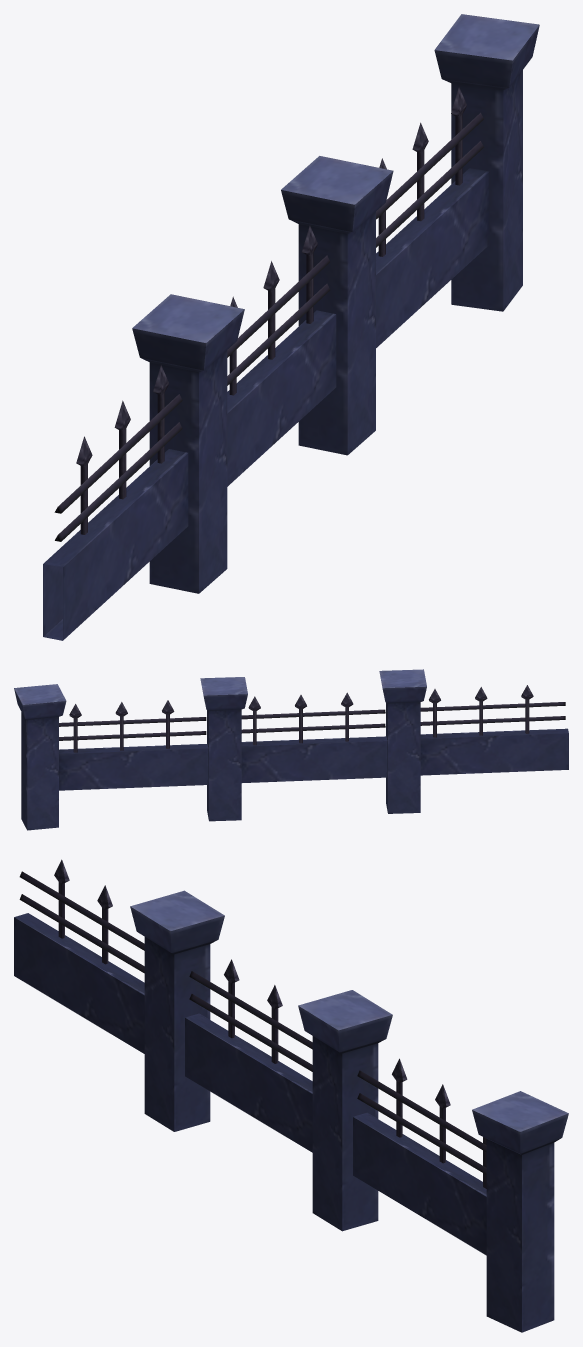
Rendered from Area09_22.fbx.
3 views of the same model, one above another, from view 1: azimuth 30°, elevation 25°; view 2: azimuth 150°, elevation 25°; view 3: azimuth 270°, elevation 25° (orthographic). The views are drawn at different scales.
Parts seen in each view (by area): view 1: Area09_22; view 2: Area09_22; view 3: Area09_22.
Part boxes in pixels (x1,y1,x2,y2): Area09_22: [43, 14, 539, 640]; Area09_22: [14, 669, 568, 830]; Area09_22: [14, 859, 568, 1332].
Size of the model in its own units: 2017 by 618 by 1504.
